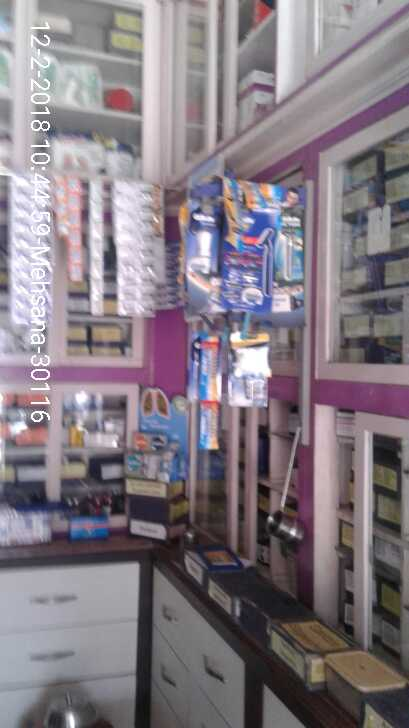gillette: (189, 330, 227, 451), (178, 207, 215, 306), (278, 211, 317, 281)
